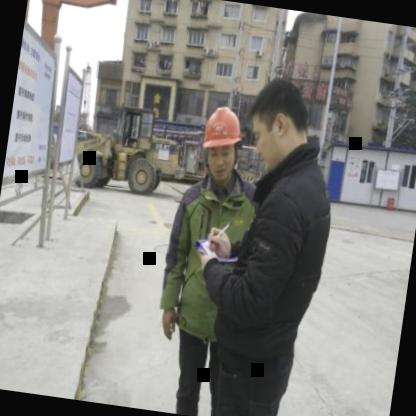head: (240, 72, 324, 183)
helmet: (194, 98, 250, 186)
